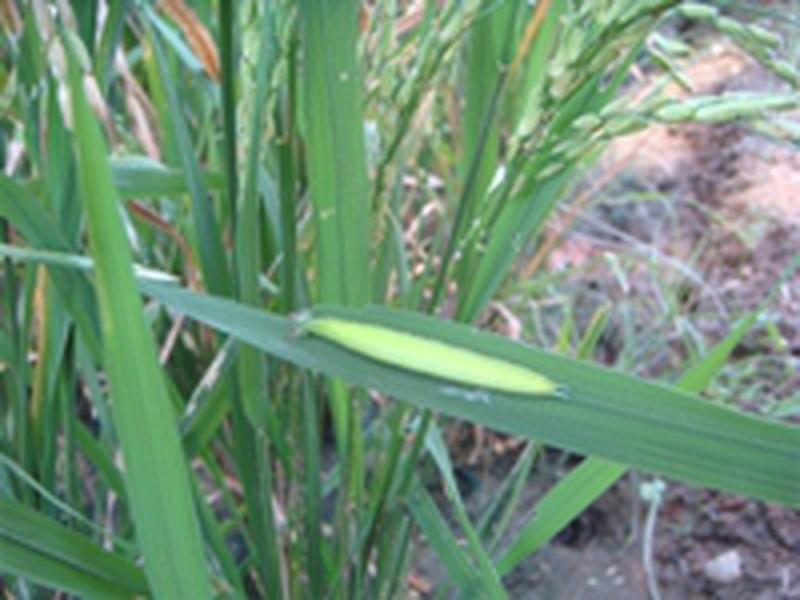Rice_horned_caterpillar: (301, 294, 577, 415)
